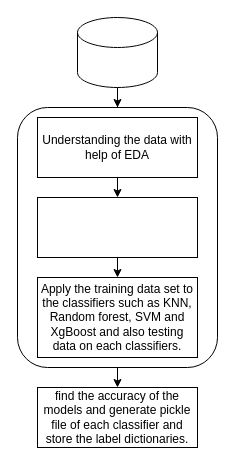
Some shapes in this 235 by 465 pixel diagram are drawn without their labels. Each missing label, with the centre of its shape:
collection of dataset: (x=117, y=52)
Divide the data into test and train data: (x=117, y=227)
